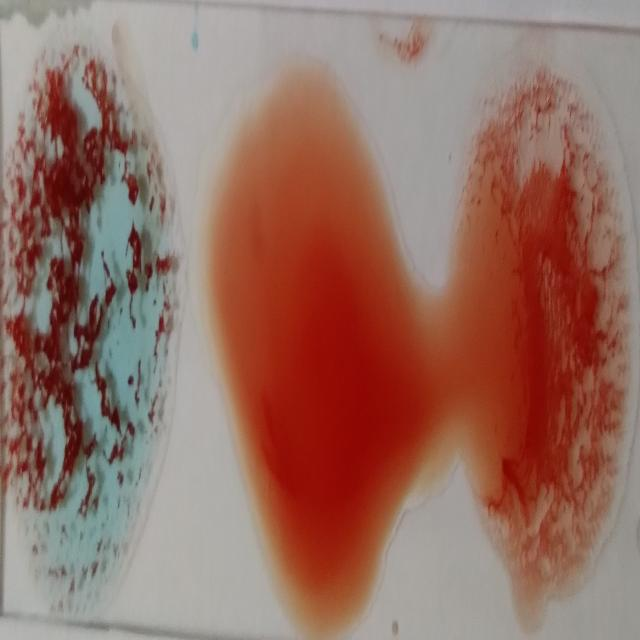A: (2, 47, 165, 585)
D: (517, 65, 629, 572)
